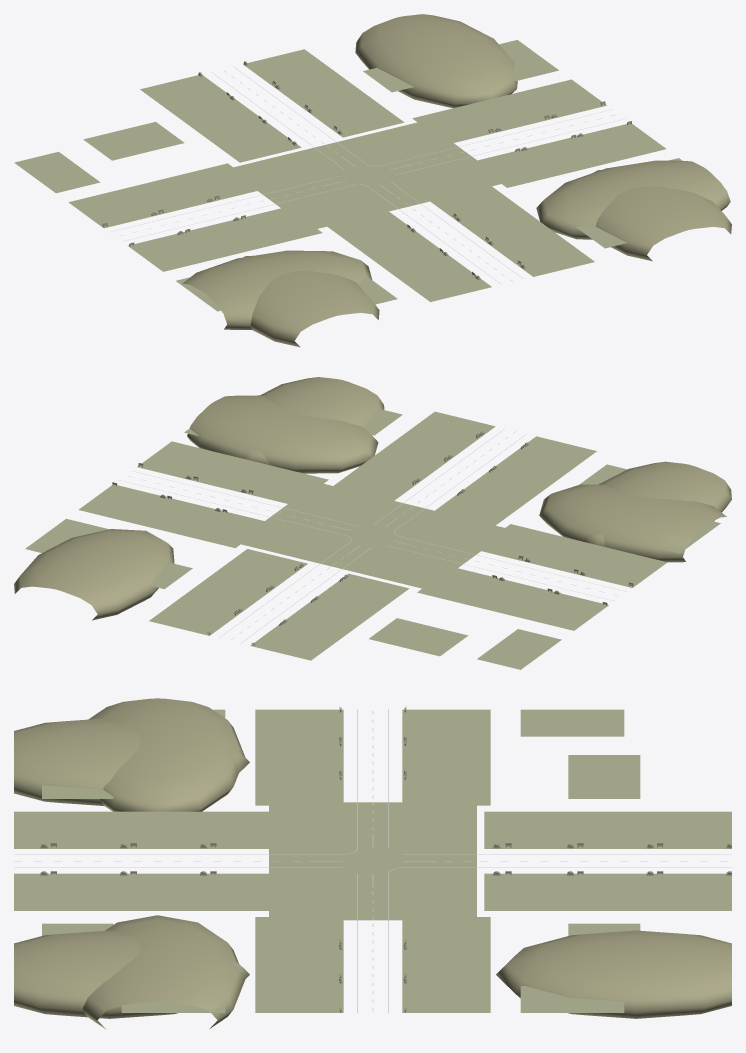
3 views of the same model, one above another, from view 1: azimuth 30°, elevation 25°; view 2: azimuth 150°, elevation 25°; view 3: azimuth 270°, elevation 25° (orthographic). The views are drawn at different scales.
Parts seen in each view (by area): view 1: static; view 2: static; view 3: static.
Part boxes in pixels (box(x1,y1,x2,y2)): static: box(14, 14, 731, 347); static: box(14, 377, 731, 669); static: box(14, 698, 731, 1029).
Size of what is drawn, in the model's own units: 180 by 14.08 by 180.
